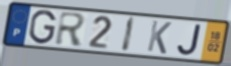2: (87, 15, 114, 51)
G: (28, 9, 58, 45)
I: (120, 15, 137, 54)
J: (176, 24, 203, 57)
K: (145, 19, 173, 56)
R: (53, 10, 88, 48)
